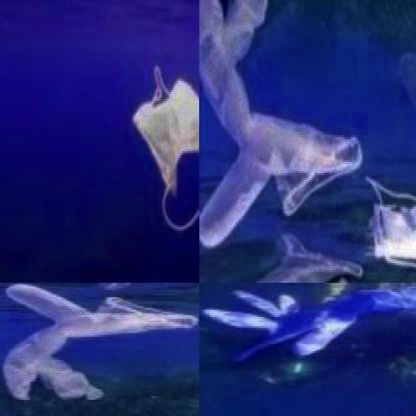Mask: (120, 54, 198, 245), (362, 171, 415, 268)
glove: (199, 0, 366, 254), (1, 282, 198, 402), (200, 286, 414, 364)
